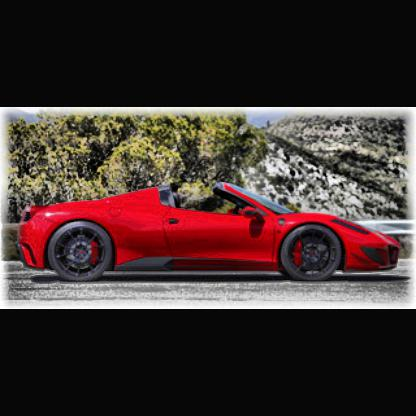Ferrari 458 Italia Convertible 2012: (19, 185, 401, 281)
